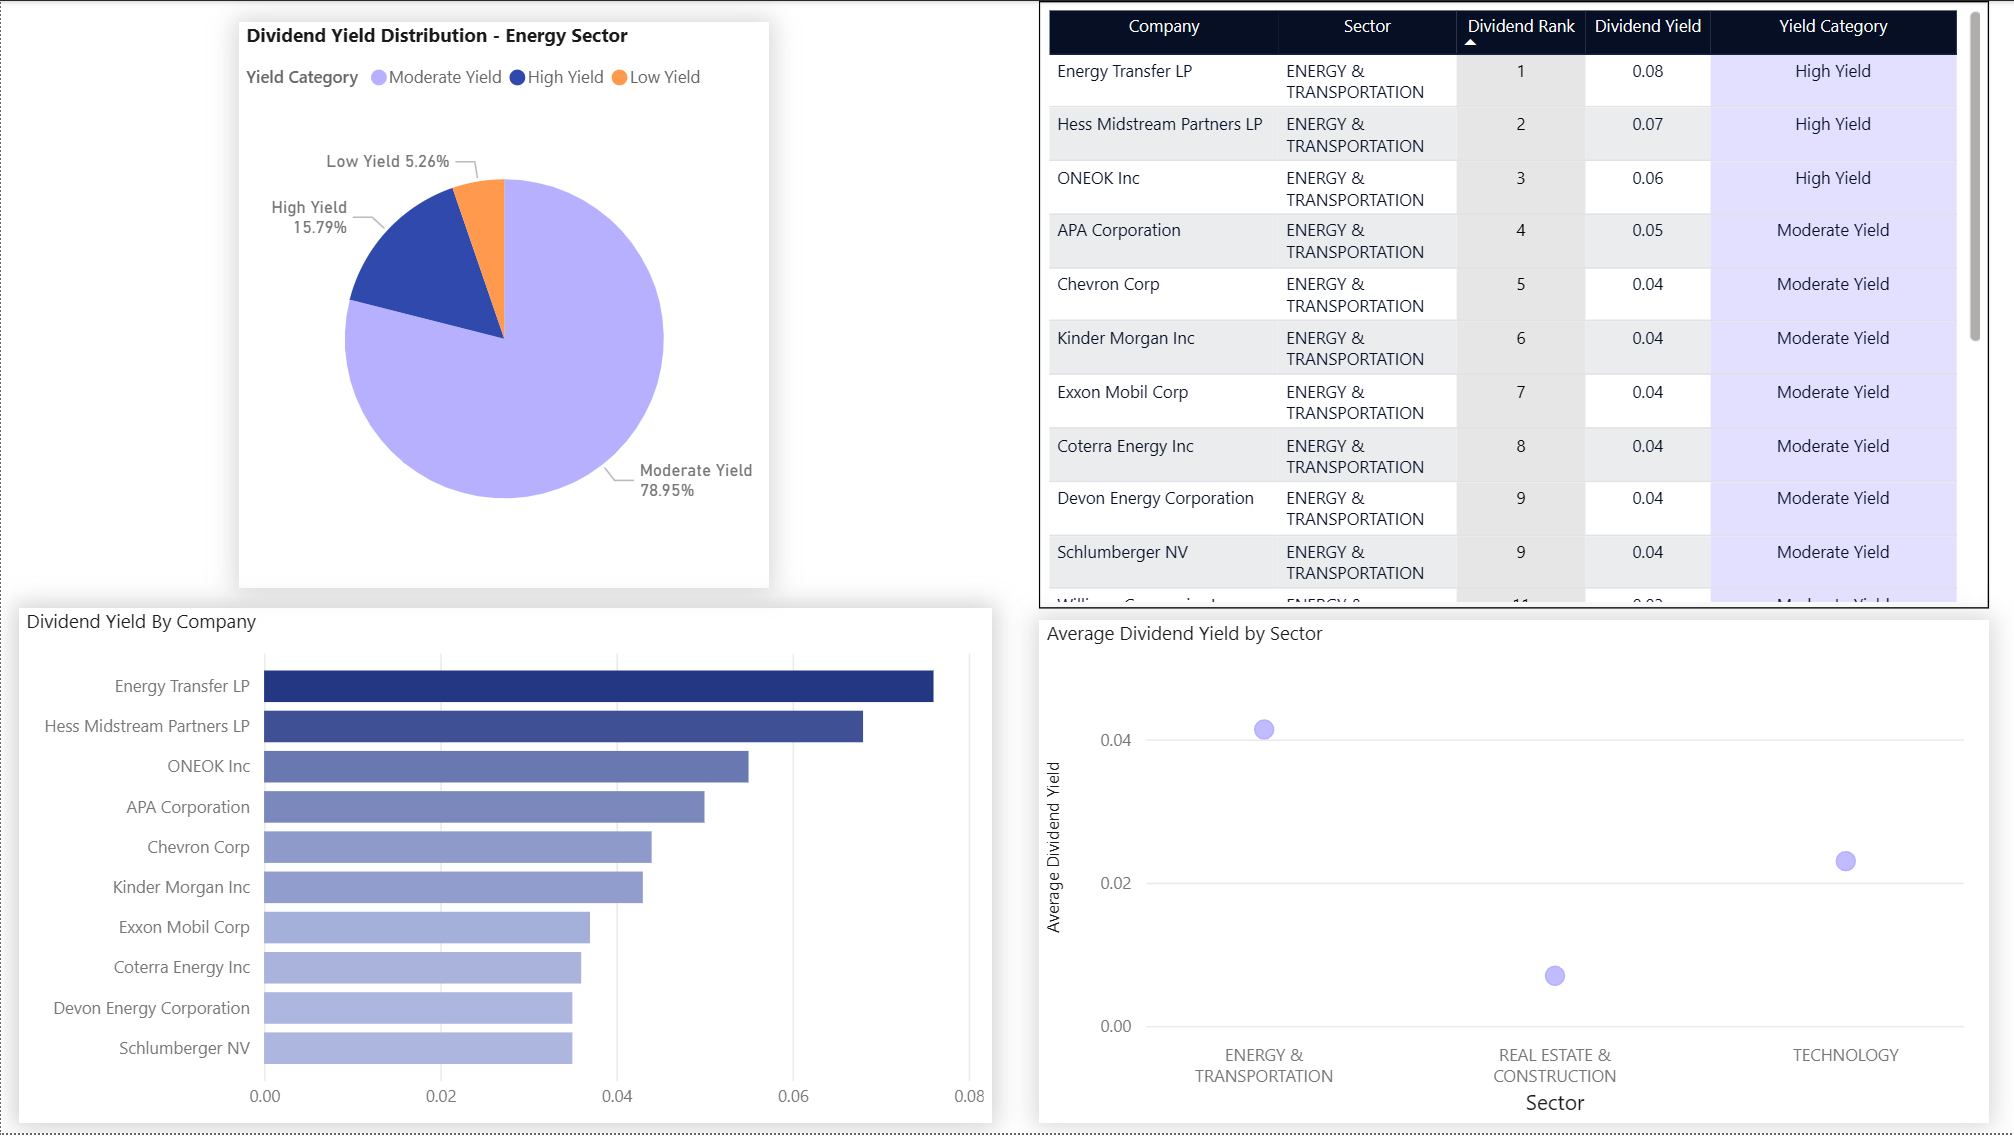

This screenshot's page, from the dashboard's own definition file:
{"tool":"powerbi","page":{"name":"Dividend Analysis","canvas":[1280,720],"ordinal":4},"visuals":[{"type":"pieChart","title":"Dividend Yield Distribution - Energy Sector","fields":{"Category":["public dividend_analysis.yield_category"],"Y":["CountNonNull(public dividend_analysis.company)"]},"box":[151.1,13.3,337.8,360],"z":0},{"type":"scatterChart","title":"Average Dividend Yield by Sector","fields":{"X":["public dividend_analysis.sector"],"Y":["Avg(public dividend_analysis.sector_avg_yield)"]},"box":[660,393.6,604.5,320],"z":1000},{"type":"barChart","title":"Dividend Yield By Company","fields":{"Category":["public dividend_analysis.company"],"Y":["Sum(public dividend_analysis.dividendyield)"]},"box":[10.9,386.4,619.1,327.3],"z":2000},{"type":"tableEx","fields":{"Values":["public dividend_analysis.company","public dividend_analysis.sector","public dividend_analysis.dividend_rank","public dividend_analysis.dividendyield","public dividend_analysis.yield_category"]},"box":[660,0,604.5,386.4],"z":3000}]}

Visuals, with their boxes in screenshot pixels (x1, y1, x2, y2), scaled from the page's 1280x720 canvas onto the 2014x1136 screenshot:
"Dividend Yield Distribution - Energy Sector" pieChart: 238 21 769 589
"Average Dividend Yield by Sector" scatterChart: 1038 621 1990 1126
"Dividend Yield By Company" barChart: 17 610 991 1126
tableEx - public dividend_analysis.company x public dividend_analysis.sector: 1038 0 1990 610
